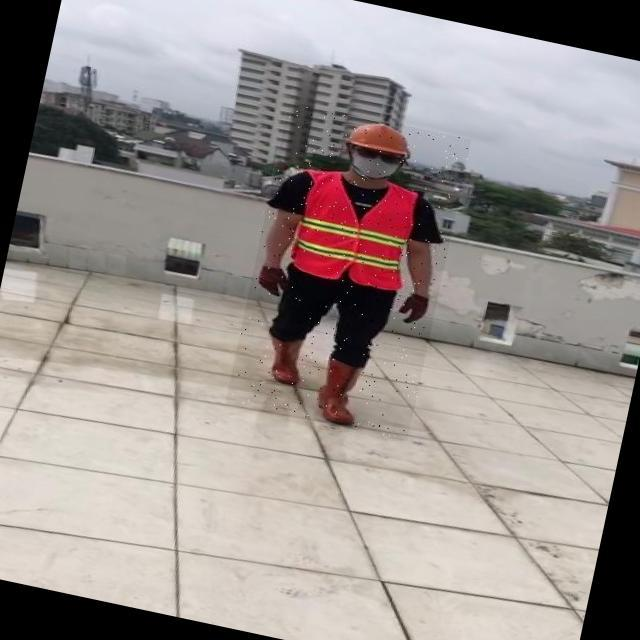Gloves: (392, 290, 430, 329), (254, 264, 293, 297)
Helmet: (344, 116, 420, 160)
Human: (225, 101, 471, 441)
Safety Boot: (314, 354, 368, 428), (255, 329, 308, 385)
Safety Vest: (286, 166, 421, 293)
